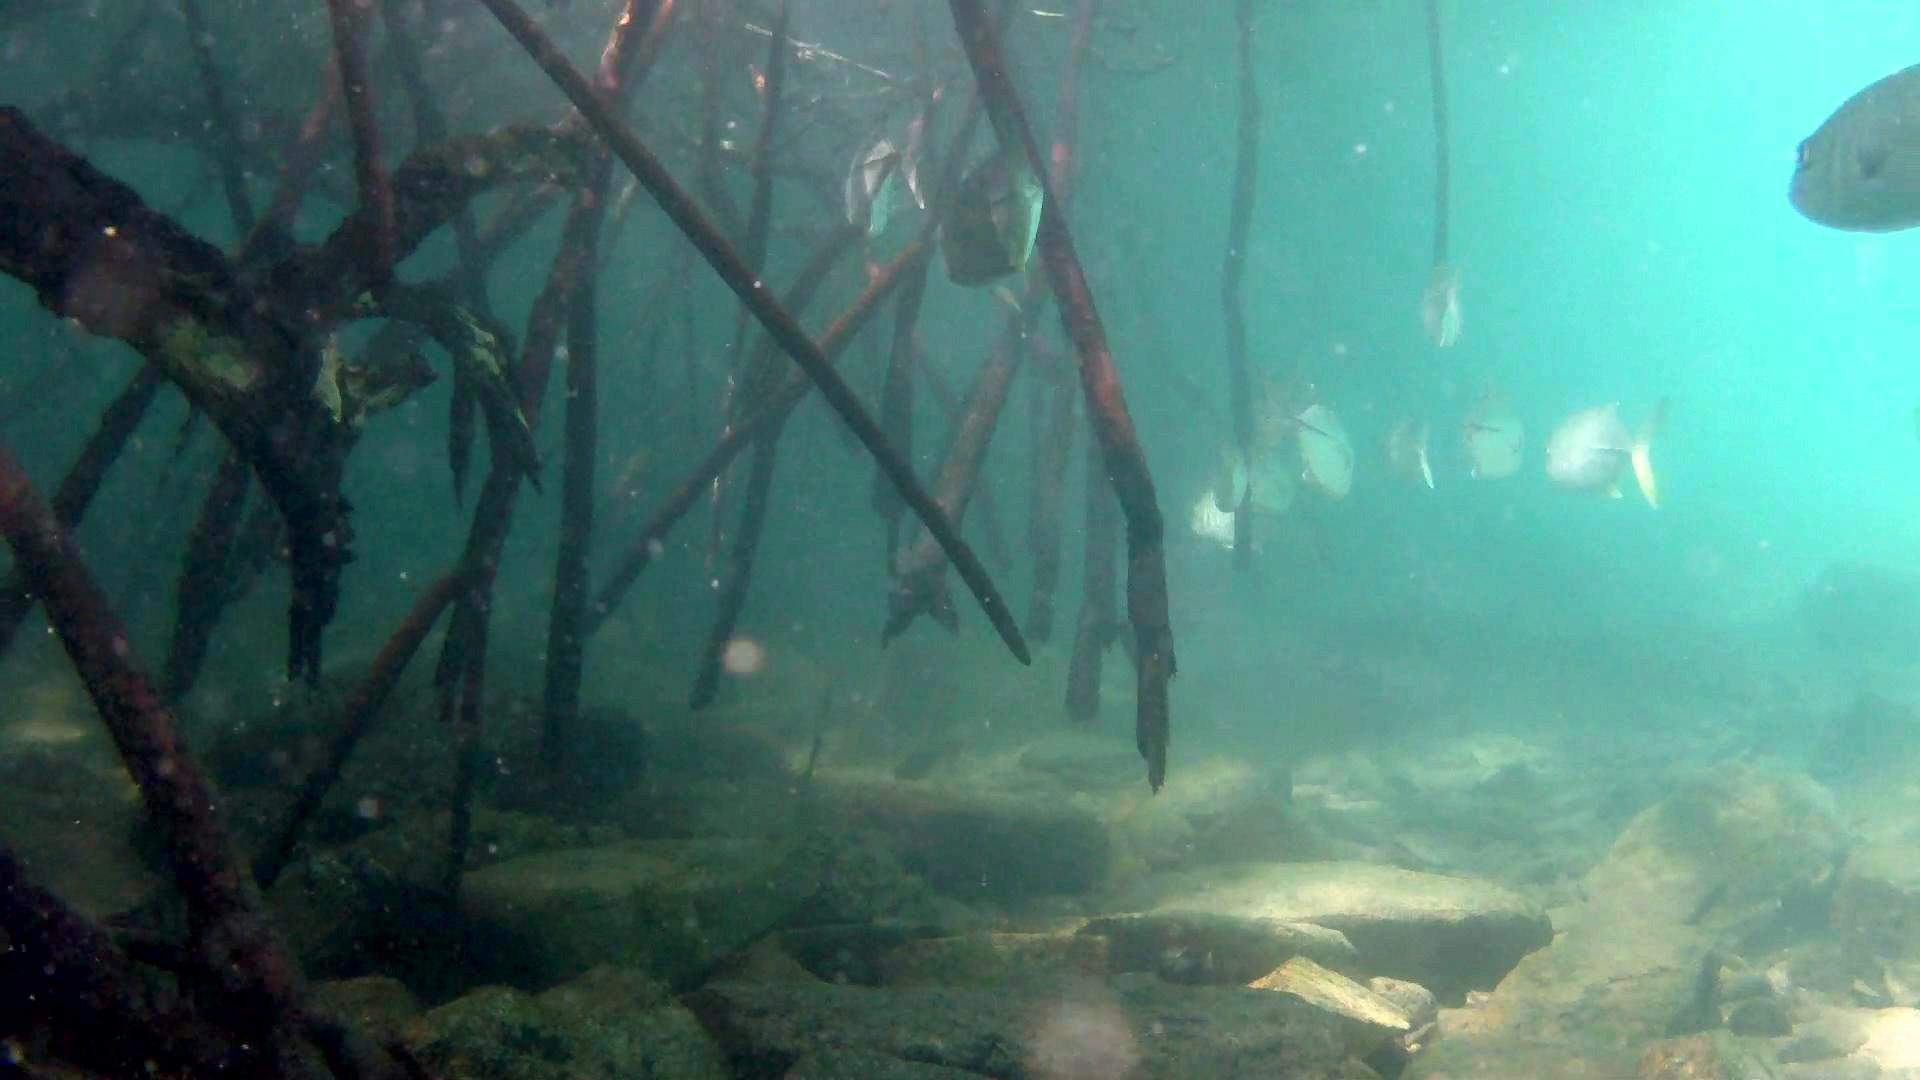caranx: (1772, 47, 1920, 261), (825, 86, 947, 240)
